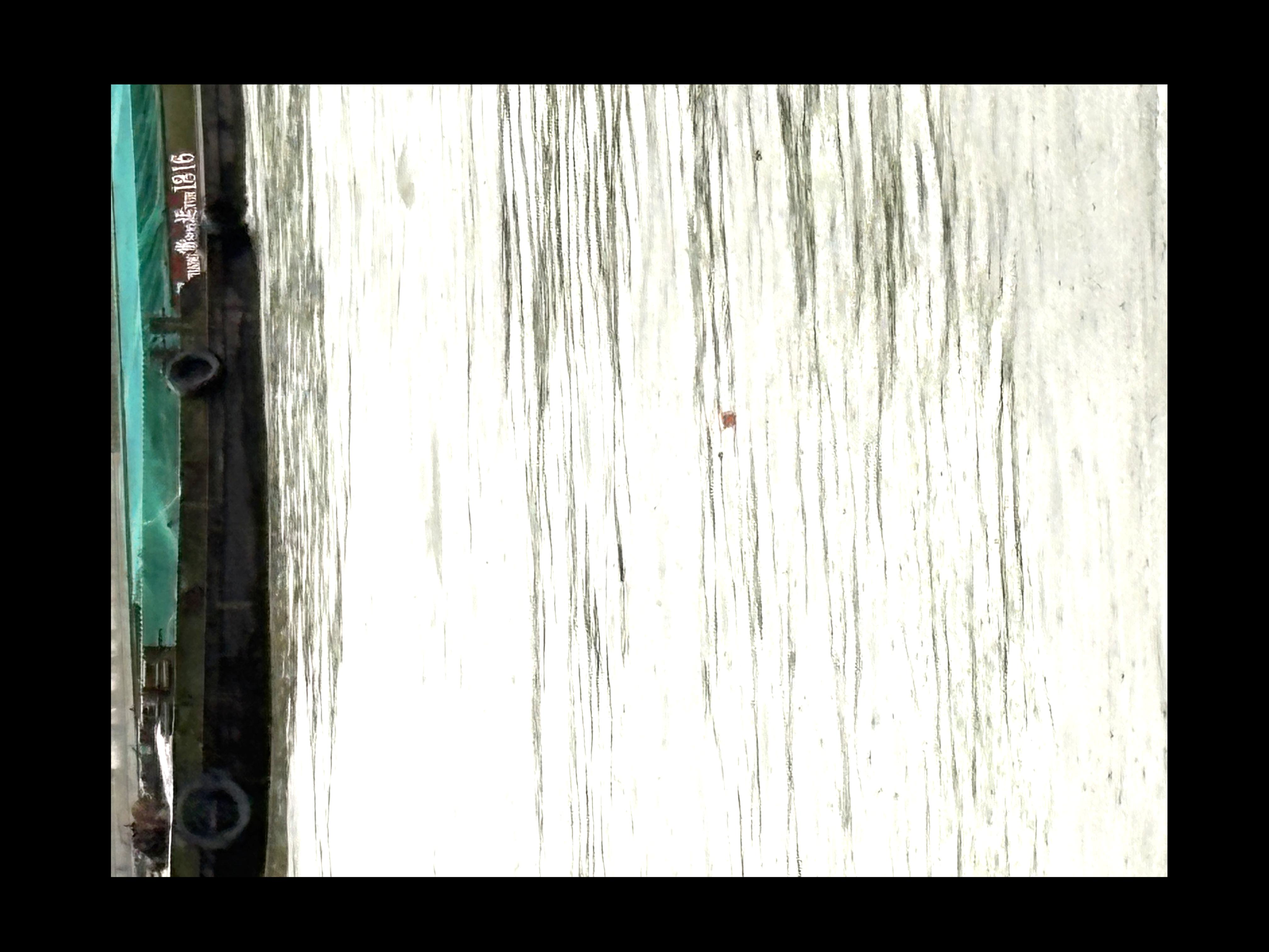Natural wastes: (751, 387, 778, 413)
